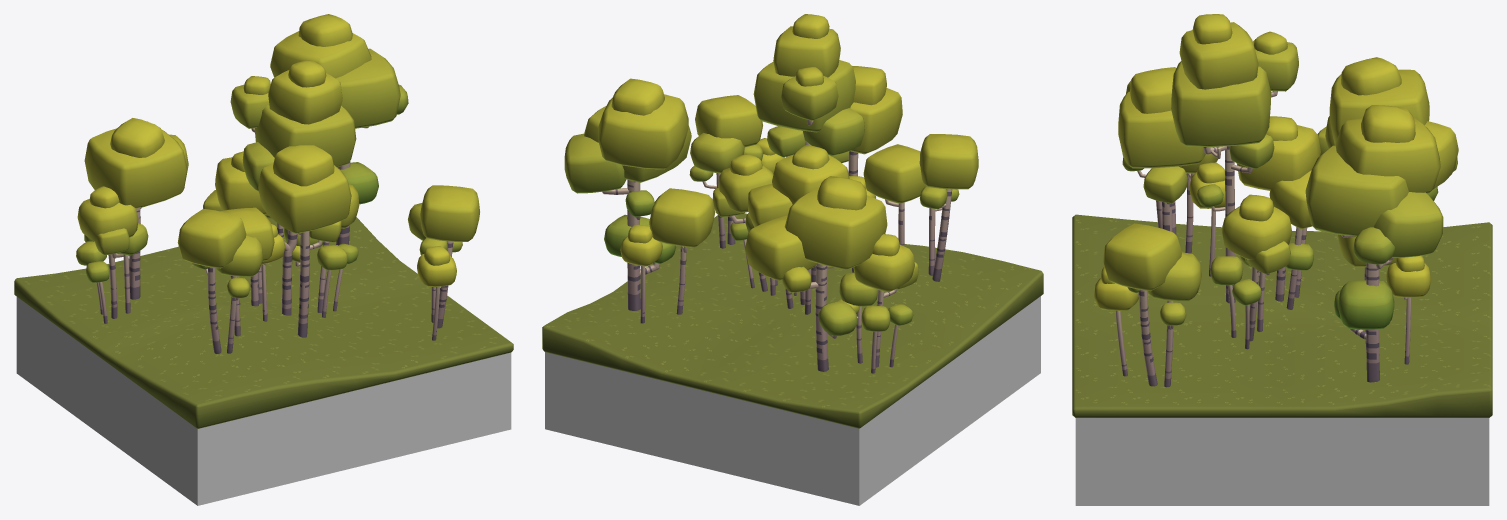
File: Island_spring.fbx
3 renders of one model, left to right at view 1: azimuth 30°, elevation 25°; view 2: azimuth 150°, elevation 25°; view 3: azimuth 270°, elevation 25°, orthographic. The views are drawn at different scales.
Parts seen in each view (by area): view 1: birch_tree_SC_green, grass_top_green, ground_block_green; view 2: birch_tree_SC_green, grass_top_green, ground_block_green; view 3: birch_tree_SC_green, grass_top_green, ground_block_green.
Boxes of the visible parts, x1,y1,x2,y2 form: birch_tree_SC_green: (76,14,479,353); grass_top_green: (14,217,513,428); ground_block_green: (16,297,511,505); birch_tree_SC_green: (564,14,978,373); grass_top_green: (542,213,1043,428); ground_block_green: (545,296,1040,505); birch_tree_SC_green: (1094,14,1458,387); grass_top_green: (1072,214,1492,417); ground_block_green: (1075,418,1489,505).
Size of the model in its own units: 1747 by 1740 by 1625.
